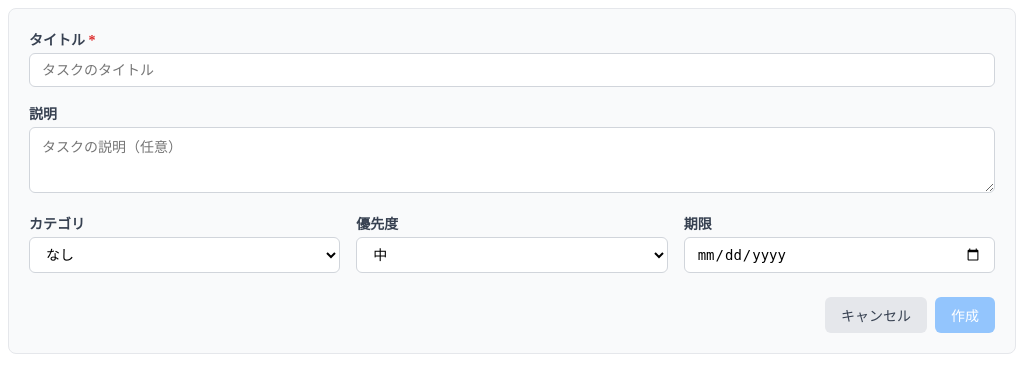
it: TaskForm › タイトルを入力すると送信ボタンが有効になる
Step 1. Type "新しいタスク" into the field labelled "タイトル *" → (512, 70), box [29,53,995,87]
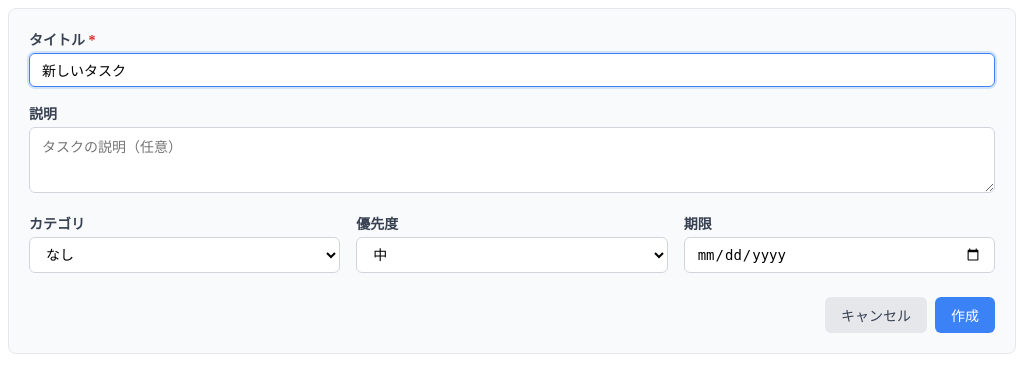
Now the button "作成" is enabled, box [935,297,995,333]
